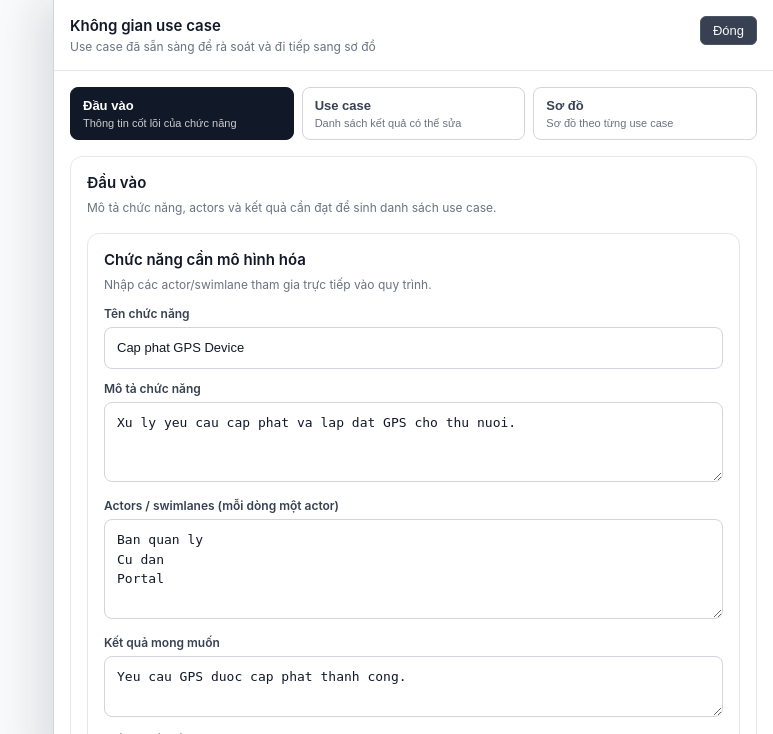
Test: UseCasePanel › shows the deterministic source and review guidance
Click the button "Use case Danh sách kết quả có thể sửa".
click(414, 114)  # box 302,87 -> 525,140
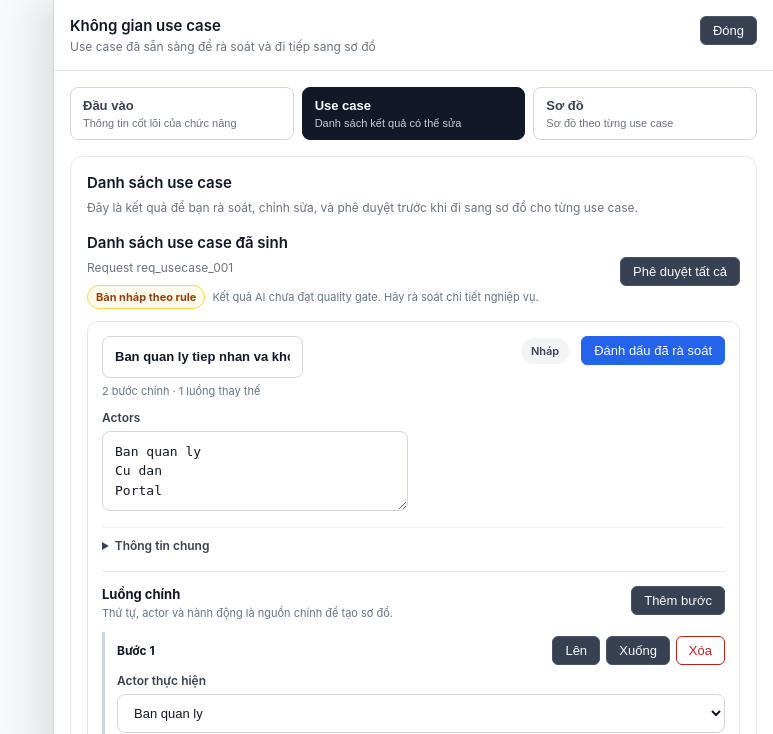
Expected: the text "Bản nháp theo rule" is shown, 87,285 -> 205,309
Expected: the text "chưa đạt quality gate" is shown, 212,290 -> 539,304
